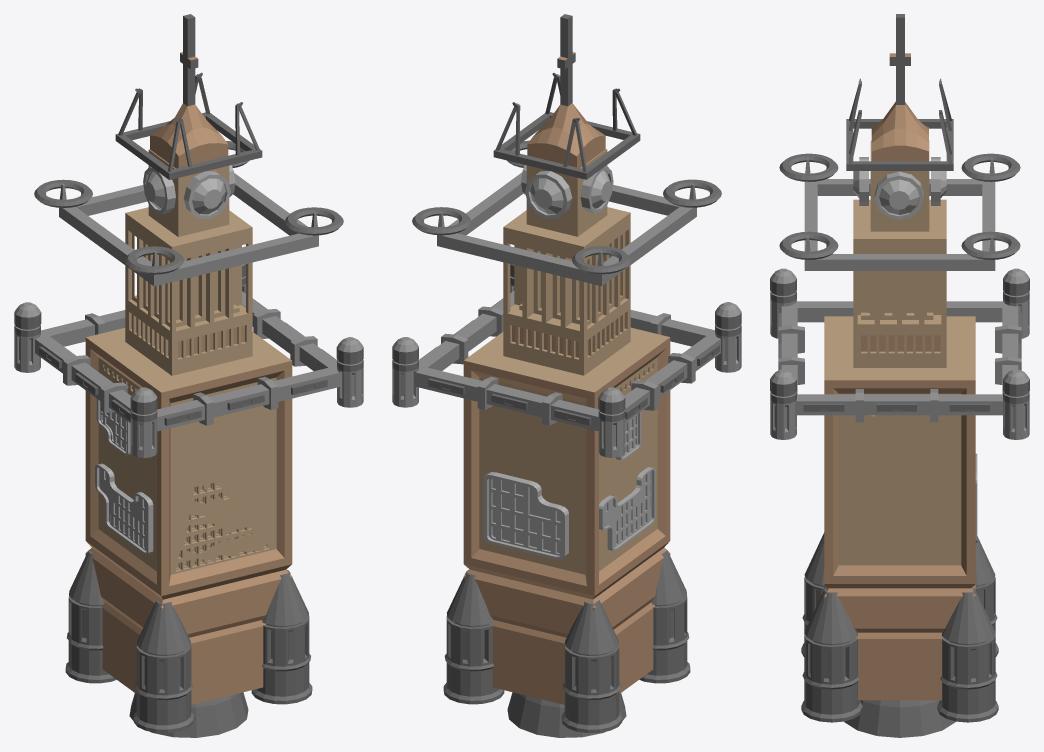
File: palace.fbx
3 renders of one model, left to right at view 1: azimuth 30°, elevation 25°; view 2: azimuth 150°, elevation 25°; view 3: azimuth 270°, elevation 25°, orthographic.
Parts seen in each view (by area): view 1: Palace; view 2: Palace; view 3: Palace.
Part boxes in pixels (bbox=[...]): Palace: bbox=[14, 14, 363, 737]; Palace: bbox=[392, 14, 741, 737]; Palace: bbox=[770, 14, 1029, 737].
Size of the model in its own units: 19.74 by 57.23 by 19.34.
